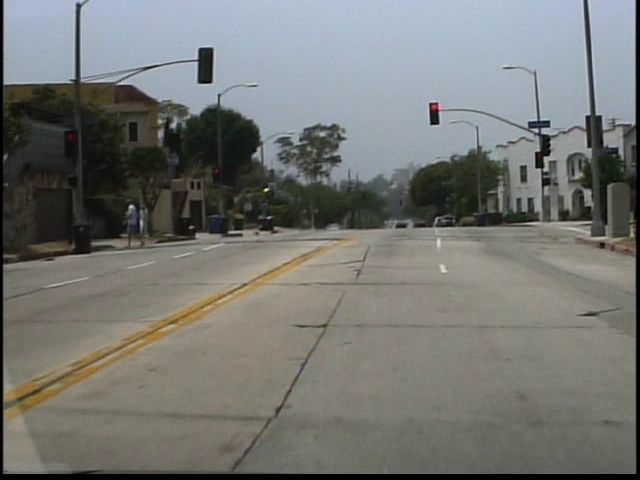person: (125, 194, 147, 246), (142, 200, 156, 246)
